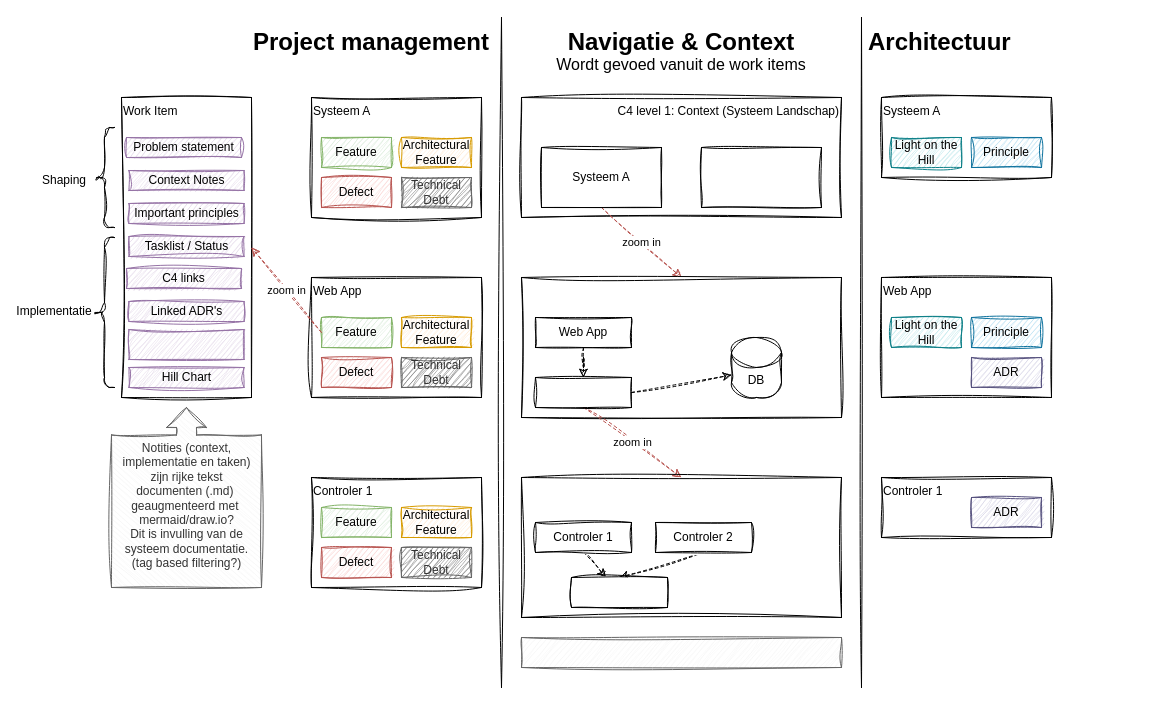
The diagram is 1164 pixels wide and 706 high, and some of its shapes have lost their labels. Here are the shapes that lost their labels. From the top down, the box of each, then its label:
(700, 146, 822, 208): Systeem B
(128, 328, 244, 360): Implementation notes
(520, 276, 842, 418): C4 level 2: Container Diagram
(534, 376, 632, 408): API app
(520, 476, 842, 618): C4 level 3: Component Diagram
(570, 576, 668, 608): ORM
(520, 636, 842, 668): C4 level 4: Code (out of scope)
